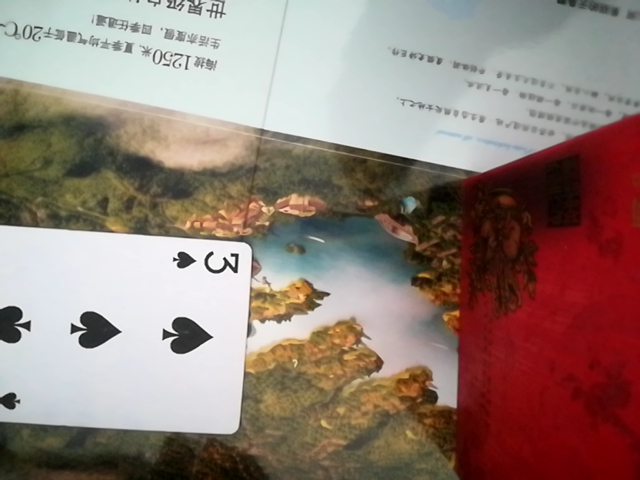ht 3: (0, 215, 258, 438)
